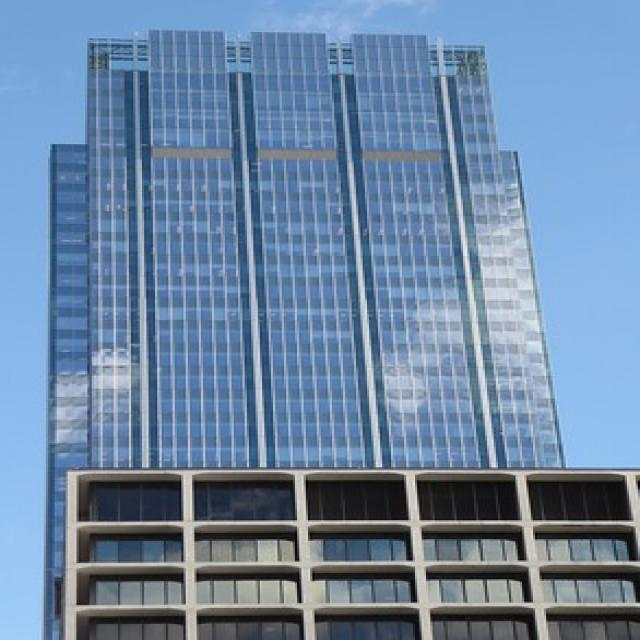Normal_building: (36, 22, 584, 640)
